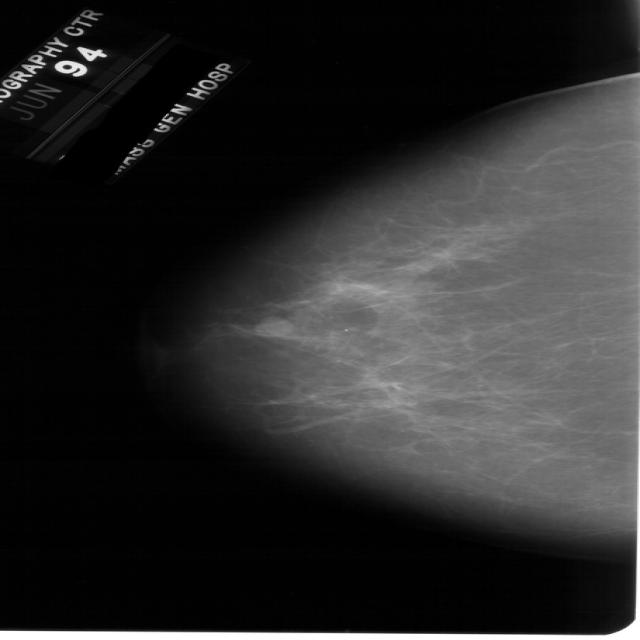tumour: (250, 312, 297, 338)
